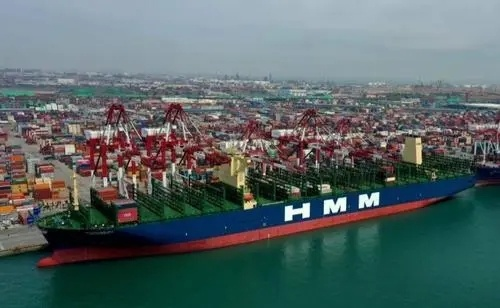Cargoship: (34, 126, 481, 267)
